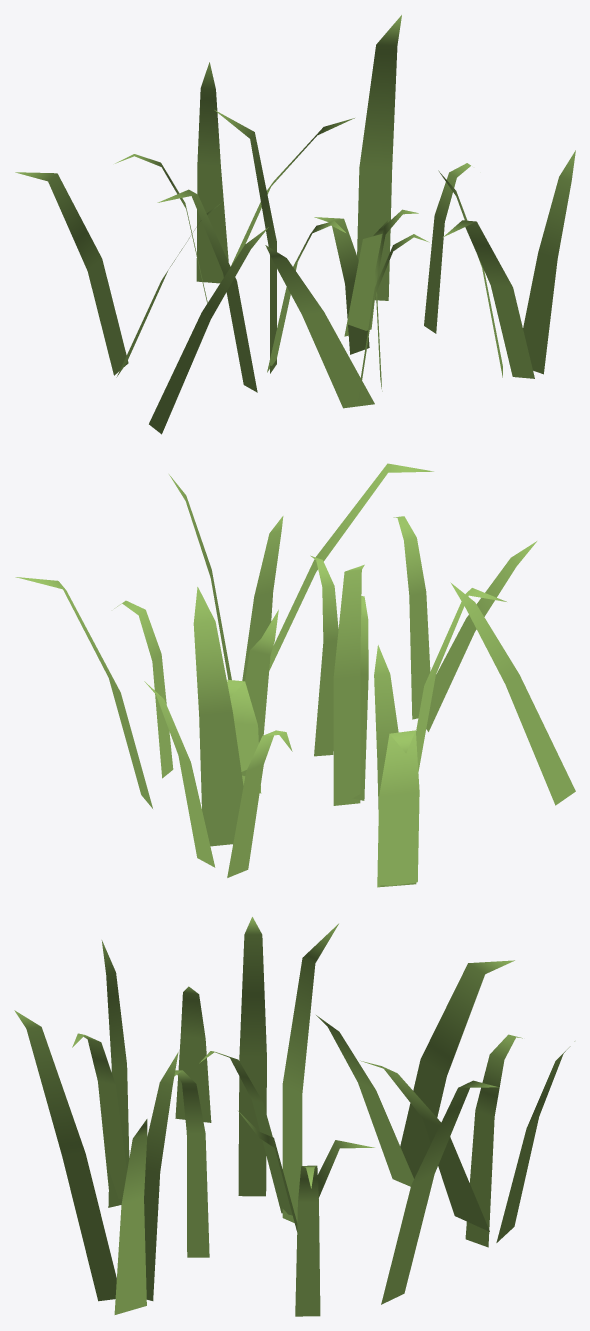
File: Grass blades.fbx
3 renders of one model, top to bottom at view 1: azimuth 30°, elevation 25°; view 2: azimuth 150°, elevation 25°; view 3: azimuth 270°, elevation 25°, orthographic. The views are drawn at different scales.
Parts seen in each view (by area): view 1: GrassPatch_Thin; view 2: GrassPatch_Thin; view 3: GrassPatch_Thin.
Boxes of the visible parts, x1,y1,x2,y2 form: GrassPatch_Thin: (15,15,575,434); GrassPatch_Thin: (15,463,575,887); GrassPatch_Thin: (14,917,574,1316).
Size of the model in its own units: 17.25 by 11.05 by 19.03.
